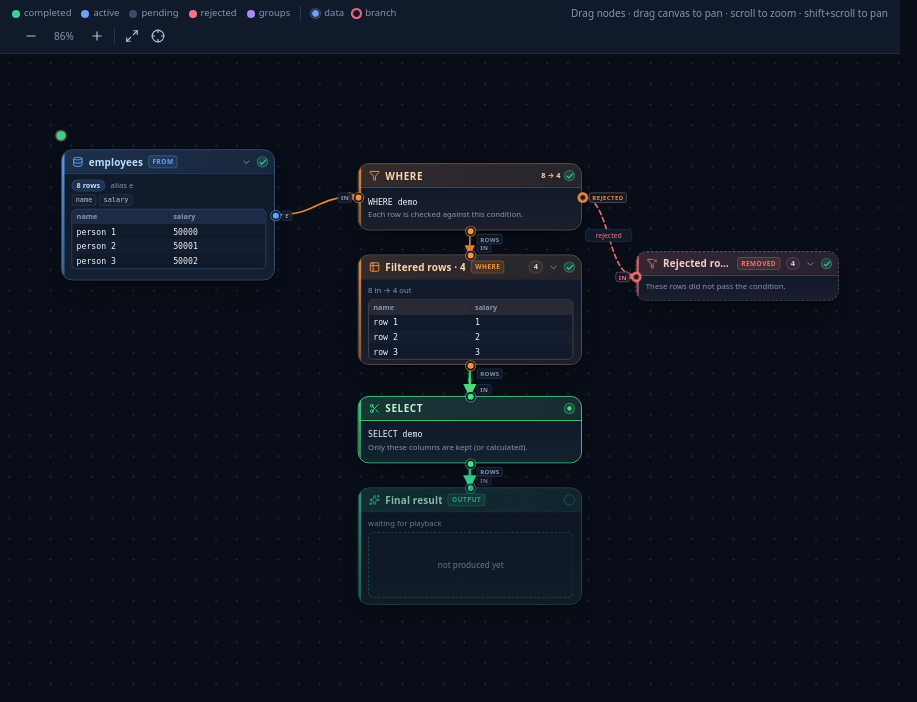
Test: FlowCanvas › animates only the accepted route when the accepted-rows node is hovered
Hover over the button with aria-label "Intermediate result after WHERE" at (470,310), box 358,254 -> 582,365
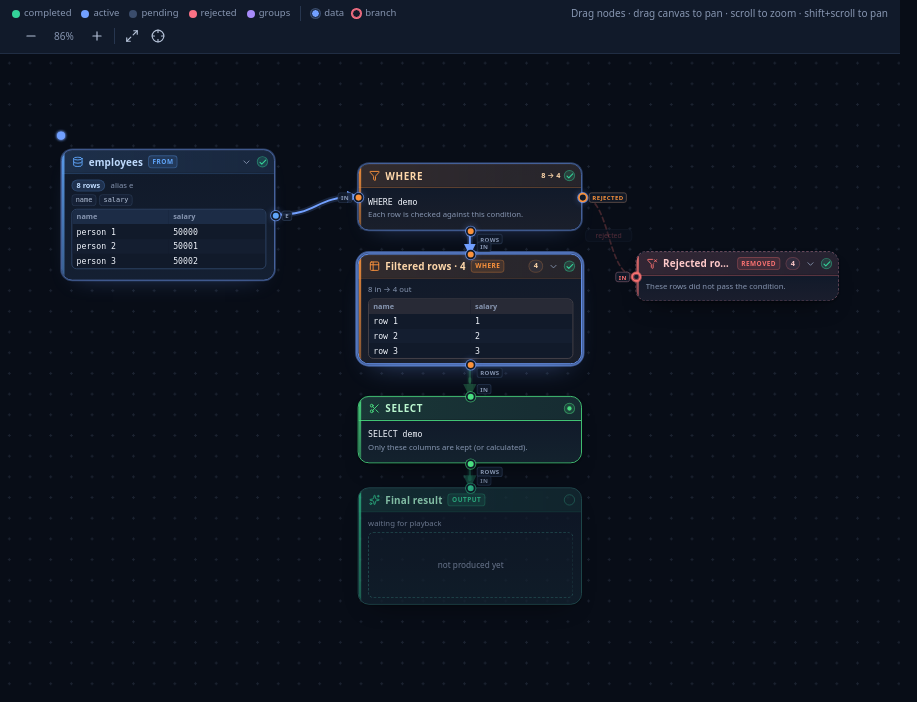
Now the button with aria-label "Intermediate result after WHERE" has attribute data-hovered="true", box 358,254 -> 582,364
